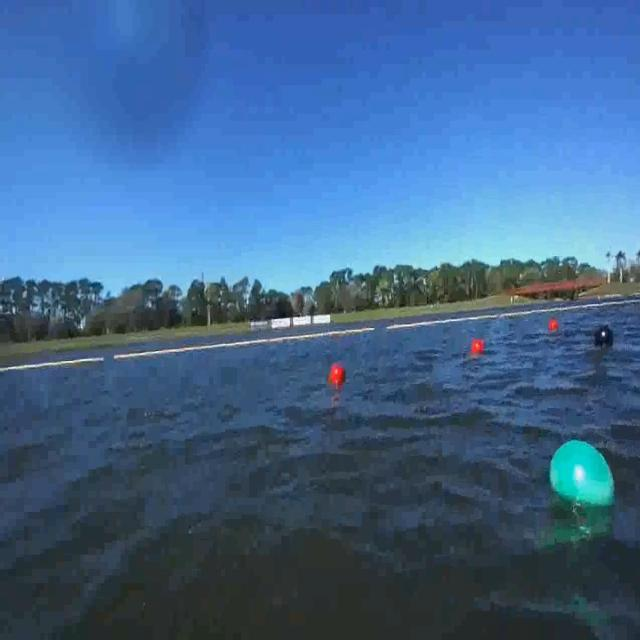black-buoy: (594, 315, 620, 358)
green-buoy: (547, 440, 615, 510)
red-buoy: (332, 363, 348, 386), (471, 339, 484, 356), (550, 321, 560, 334)
